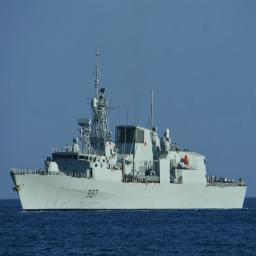Fragata: (12, 55, 249, 214)
